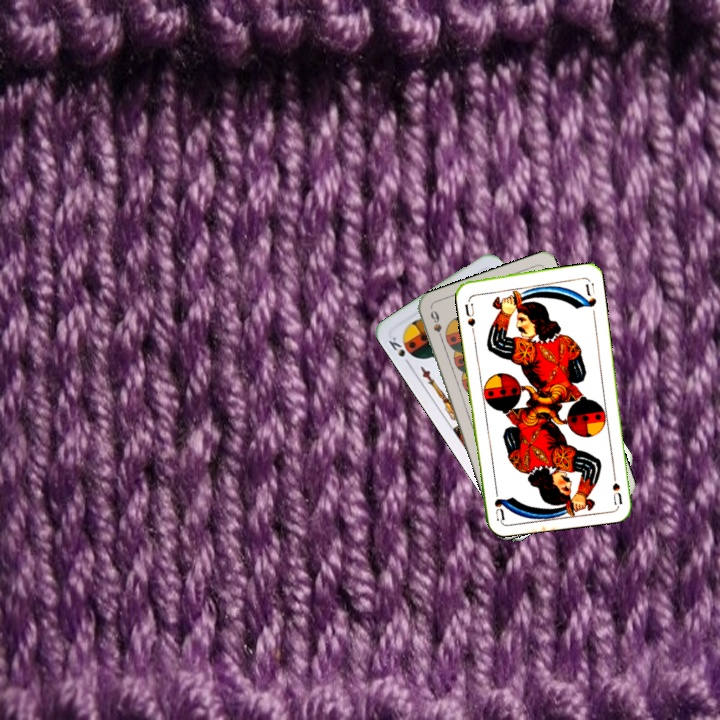S9: (426, 306, 447, 346)
SK: (384, 333, 413, 369)
SU: (608, 465, 625, 506), (461, 299, 478, 334)
